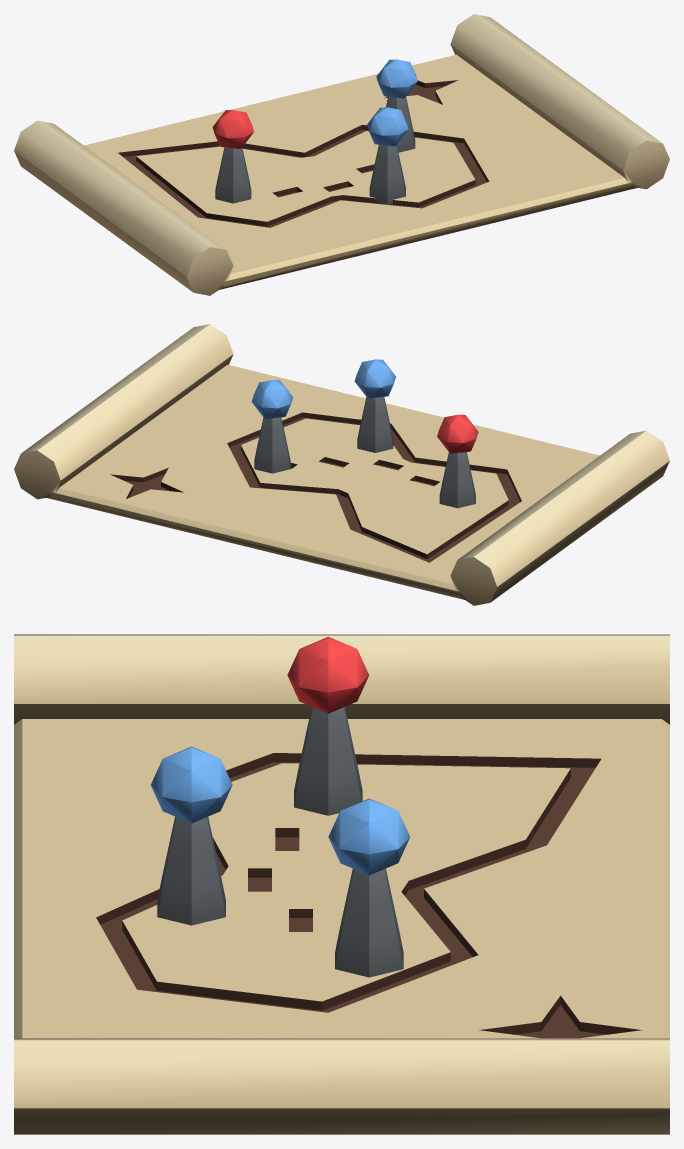
The model's file is war_map.glb.
The picture shows the model from 3 angles, top to bottom: view 1: azimuth 30°, elevation 25°; view 2: azimuth 150°, elevation 25°; view 3: azimuth 270°, elevation 25°; orthographic projection. The views are drawn at different scales.
Visible parts, largest first — view 1: Item; view 2: Item; view 3: Item.
Part boxes in pixels (bbox=[...]): Item: bbox=[14, 14, 669, 295]; Item: bbox=[14, 324, 669, 605]; Item: bbox=[14, 634, 669, 1134].
Bounding box in the file's own units: 1.55 × 0.305 × 0.96.
2 materials, 2 textured.
